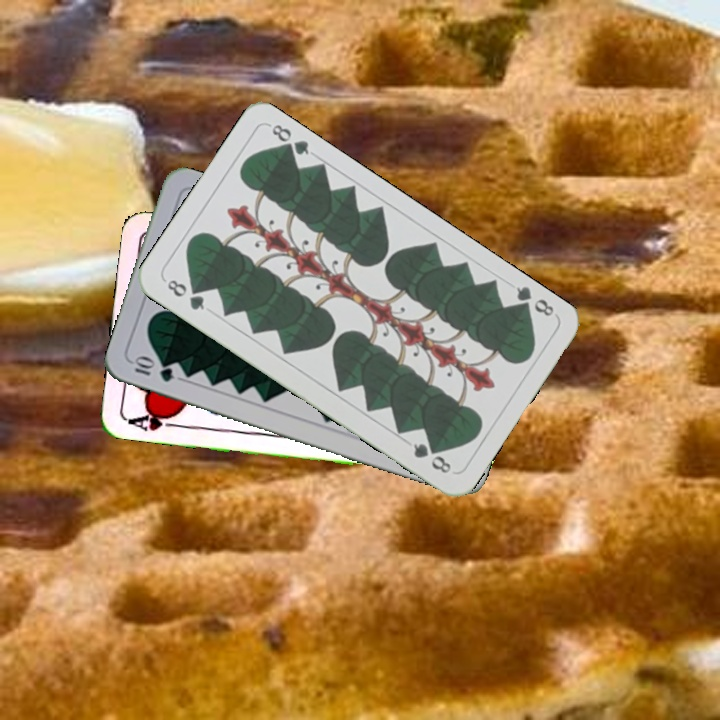G10: (128, 354, 176, 385)
G8: (510, 282, 557, 319), (163, 275, 207, 313)
HA: (123, 406, 183, 434)
